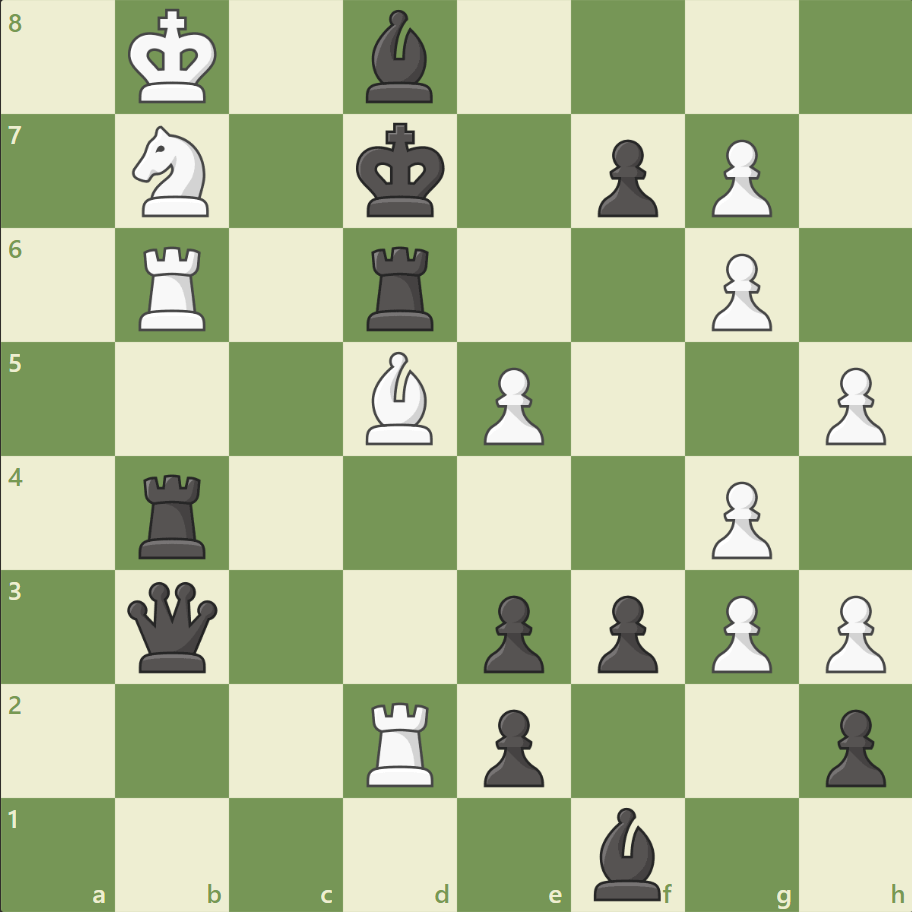B: (358, 347, 442, 449)
K: (124, 4, 224, 112)
N: (124, 121, 222, 223)
P: (701, 132, 776, 223), (701, 246, 776, 337), (474, 359, 549, 450), (701, 473, 776, 564), (701, 586, 776, 677), (815, 359, 889, 450), (815, 586, 889, 677)
R: (133, 239, 215, 336), (360, 693, 442, 790)
b: (358, 6, 442, 109), (585, 801, 669, 904)
k: (351, 117, 451, 225)
p: (474, 586, 549, 677), (474, 700, 549, 791), (588, 132, 662, 223), (588, 586, 662, 677), (815, 700, 889, 791)
q: (124, 576, 223, 676)
r: (360, 239, 442, 336), (133, 466, 215, 563)
